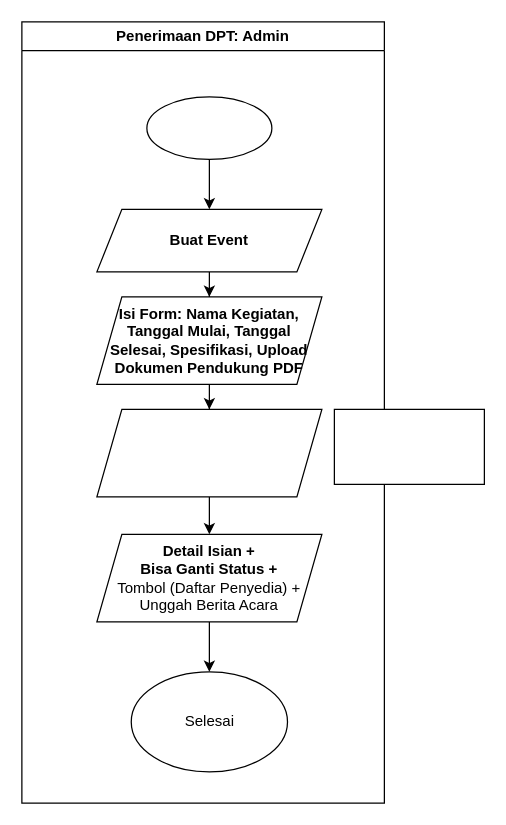
Image size: 506x825. Some labels were removed from this diagram. The box of each missing label's shape, as (x1, y1, x2, y2) in pixels:
+ Status (Open, Proses, Selesai): (333, 408, 484, 484)
Start: (146, 96, 272, 159)
Tampilkan Tabel Penerimaan DPT: (96, 408, 322, 497)
